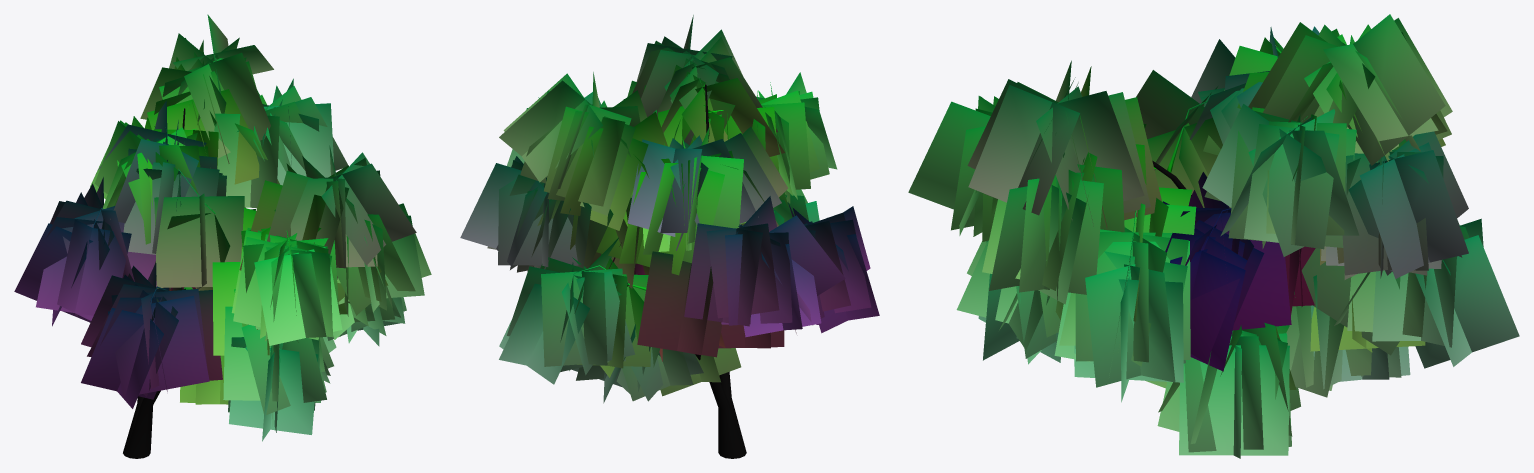
File: M_P13_Tree_6.fbx
The picture shows the model from 3 angles, left to right: view 1: azimuth 30°, elevation 25°; view 2: azimuth 150°, elevation 25°; view 3: azimuth 270°, elevation 25°; orthographic projection. The views are drawn at different scales.
Visible parts, largest first — view 1: Tree_6; view 2: Tree_6; view 3: Tree_6.
Part boxes in pixels (x1,y1,x2,y2): Tree_6: (14, 14, 431, 458); Tree_6: (460, 15, 879, 458); Tree_6: (908, 14, 1519, 458).
Bounding box in the file's own units: 442 × 497 × 568.
